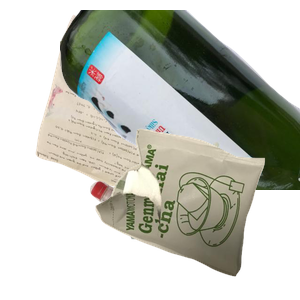glass: (60, 10, 300, 190)
paper: (33, 12, 214, 192)
plastic: (87, 178, 234, 300)
trash: (93, 126, 300, 300)
